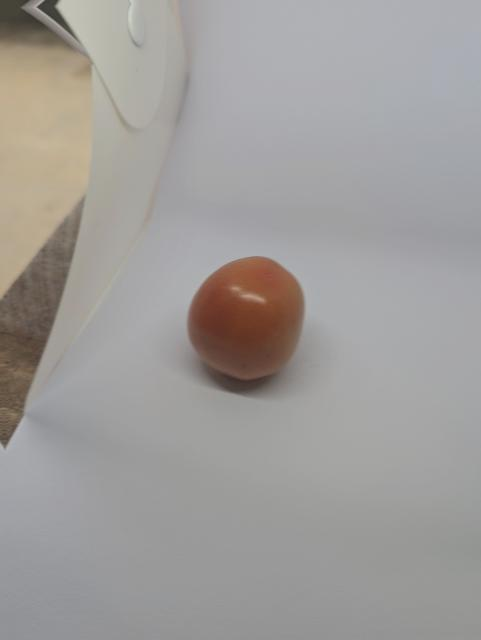red: (181, 252, 318, 388)
